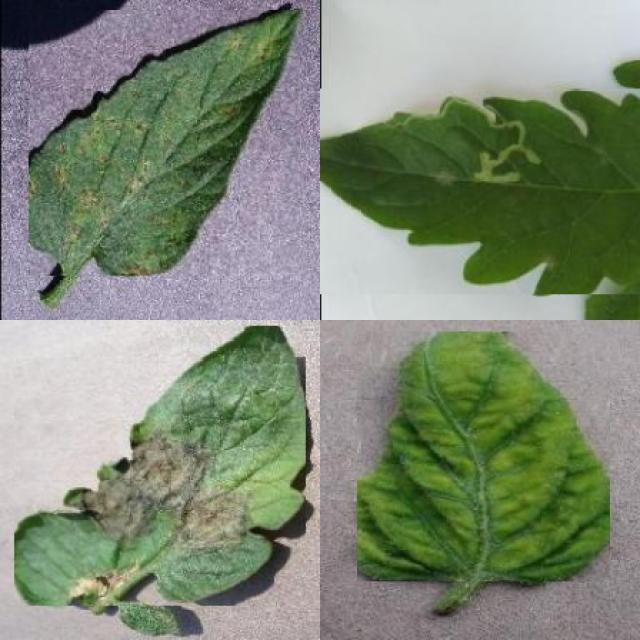Late Blight: (14, 326, 306, 606)
Leaf Miner: (320, 88, 640, 295)
Septoria: (28, 10, 306, 276)
Yellow Leaf Curl Virus: (357, 332, 610, 582)
